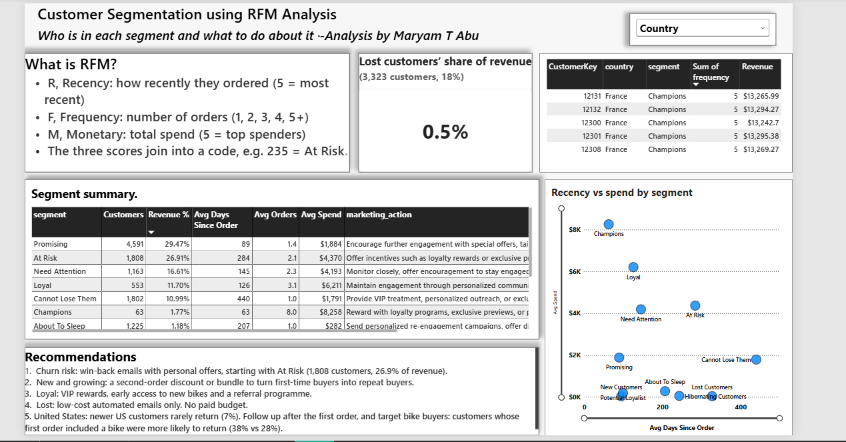

The page's visual inventory and layout, read from the dashboard file:
{"tool":"powerbi","page":{"name":"Segments and sections","canvas":[1920,1080],"ordinal":1},"visuals":[{"type":"textbox","box":[31.7,0,1888.4,58.6],"z":0},{"type":"textbox","box":[31.7,58.6,1888.4,46.4],"z":1000},{"type":"textbox","box":[736.8,58.6,1183.3,46.4],"z":2000},{"type":"textbox","box":[0,860,1286,220],"z":11000},{"type":"listSlicer","fields":{"Values":["vw_rfm_customers.country"]},"box":[1512.7,24.4,366,80.5],"z":12000},{"type":"textbox","box":[0,124.4,812.5,297.7],"z":12001},{"type":"cardVisual","title":"Lost customers’ share of revenue","fields":{"Data":["vw_rfm_customers.Lost Revenue %"]},"box":[834.4,124.4,434.3,297.7],"z":12002},{"type":"tableEx","title":"Top 5 customers by spend","fields":{"Values":["vw_rfm_customers.CustomerKey","vw_rfm_customers.country","vw_rfm_customers.segment","Sum(vw_rfm_customers.frequency)","vw_rfm_customers.Revenue"]},"box":[1288.2,124.4,631.9,297.7],"z":12003},{"type":"tableEx","title":"Segment summary.","fields":{"Values":["segment_actions.segment","vw_rfm_customers.Customers","vw_rfm_customers.Revenue %","vw_rfm_customers.Avg Days Since Order","vw_rfm_customers.Avg Orders","vw_rfm_customers.Avg Spend","segment_actions.marketing_action"]},"box":[0,440,1286,400],"z":12004},{"type":"scatterChart","title":"Recency vs spend by segment","fields":{"Category":["vw_rfm_customers.segment"],"X":["vw_rfm_customers.Avg Days Since Order"],"Y":["vw_rfm_customers.Avg Spend"]},"box":[1300.4,439.2,619.7,641.7],"z":12005}]}

Visuals, with their boxes on the page's 1920x1080 design canvas (x1, y1, x2, y2). These are canvas units, not pixel positions in the 846x442 screenshot, which may show the page scaled, cropped or inside an application window:
textbox: detection(32, 0, 1920, 59)
textbox: detection(32, 59, 1920, 105)
textbox: detection(737, 59, 1920, 105)
textbox: detection(0, 860, 1286, 1080)
listSlicer - vw_rfm_customers.country: detection(1513, 24, 1879, 105)
textbox: detection(0, 124, 812, 422)
"Lost customers’ share of revenue" cardVisual: detection(834, 124, 1269, 422)
"Top 5 customers by spend" tableEx: detection(1288, 124, 1920, 422)
"Segment summary." tableEx: detection(0, 440, 1286, 840)
"Recency vs spend by segment" scatterChart: detection(1300, 439, 1920, 1081)
